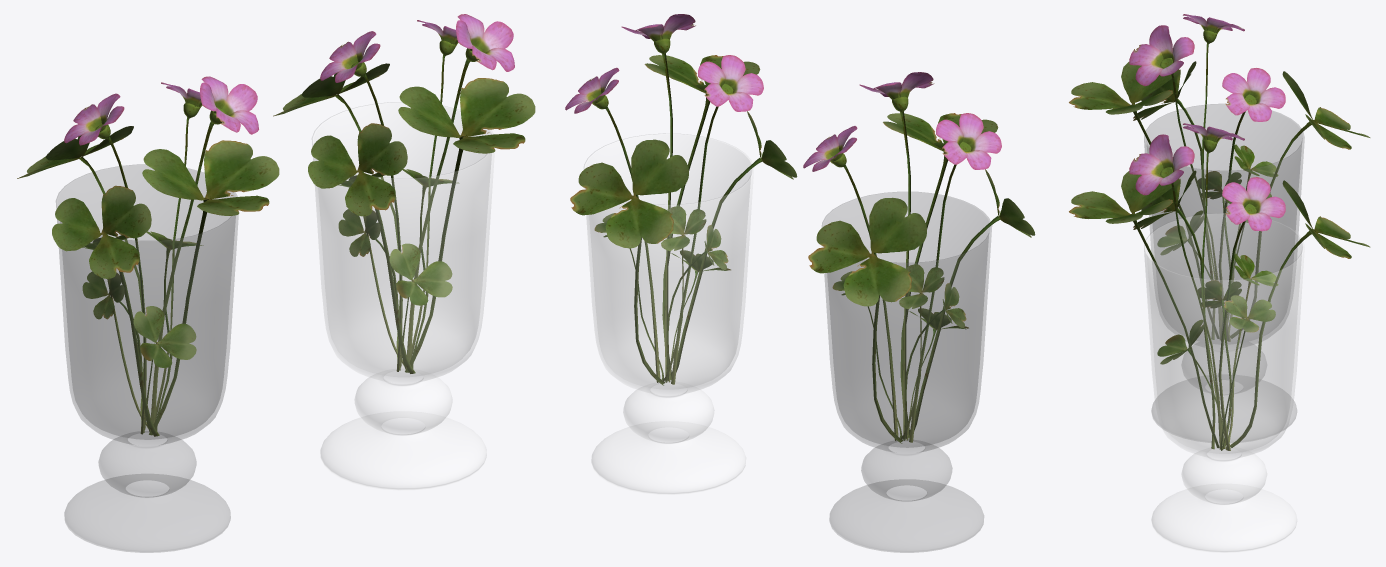
Rendered from predmet.glb.
The picture shows the model from 3 angles, left to right: view 1: azimuth 30°, elevation 25°; view 2: azimuth 150°, elevation 25°; view 3: azimuth 270°, elevation 25°; orthographic projection. The views are drawn at different scales.
Parts seen in each view (by area): view 1: Flowers1, GlassAlpha, GlassTransmission; view 2: Flowers1, GlassAlpha, GlassTransmission; view 3: GlassTransmission, Flowers1, GlassAlpha.
Boxes of the visible parts, <box> form: Flowers1: <box>17,14,535,436</box>; GlassAlpha: <box>56,164,238,552</box>; GlassTransmission: <box>312,102,494,490</box>; Flowers1: <box>565,14,1035,443</box>; GlassAlpha: <box>822,192,991,552</box>; GlassTransmission: <box>584,133,753,494</box>; GlassTransmission: <box>1144,213,1304,552</box>; Flowers1: <box>1069,14,1370,450</box>; GlassAlpha: <box>1144,104,1304,442</box>.
Size of the model in its own units: 0.2173 by 0.2032 by 0.1425.
3 materials, 1 textured.
